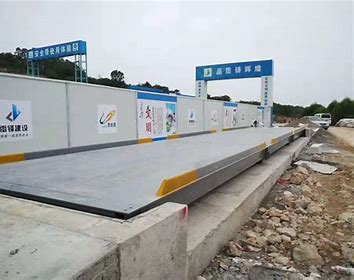Industrial Scale: (3, 122, 308, 219)
